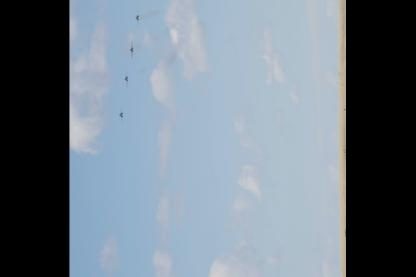AV8B: (134, 7, 138, 26), (130, 39, 134, 58), (124, 68, 127, 88), (119, 104, 122, 124)
